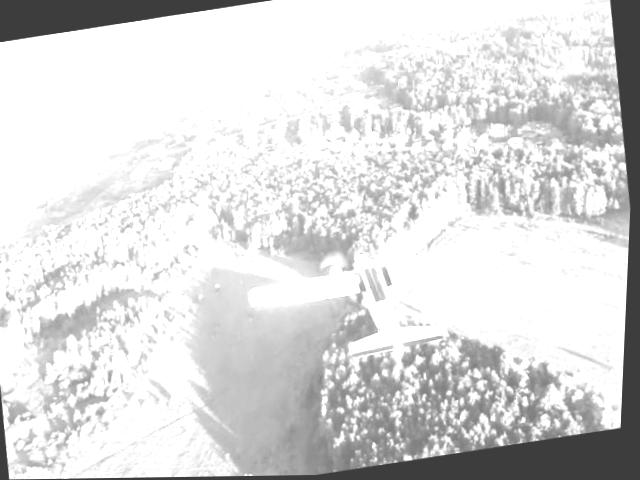hedef: (243, 220, 511, 380)
